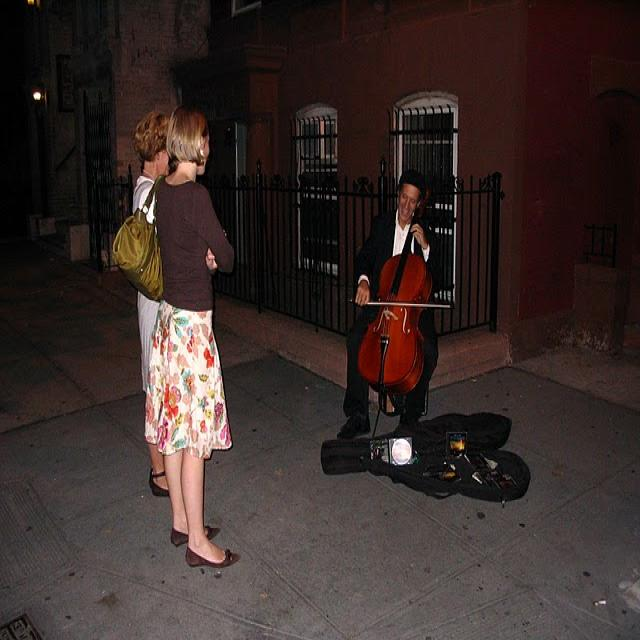cello: (356, 192, 434, 402)
